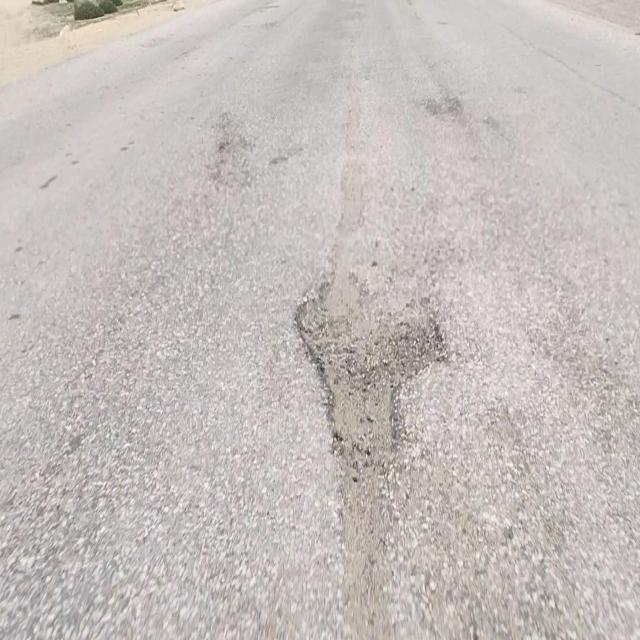Potholes: (293, 268, 450, 486)
